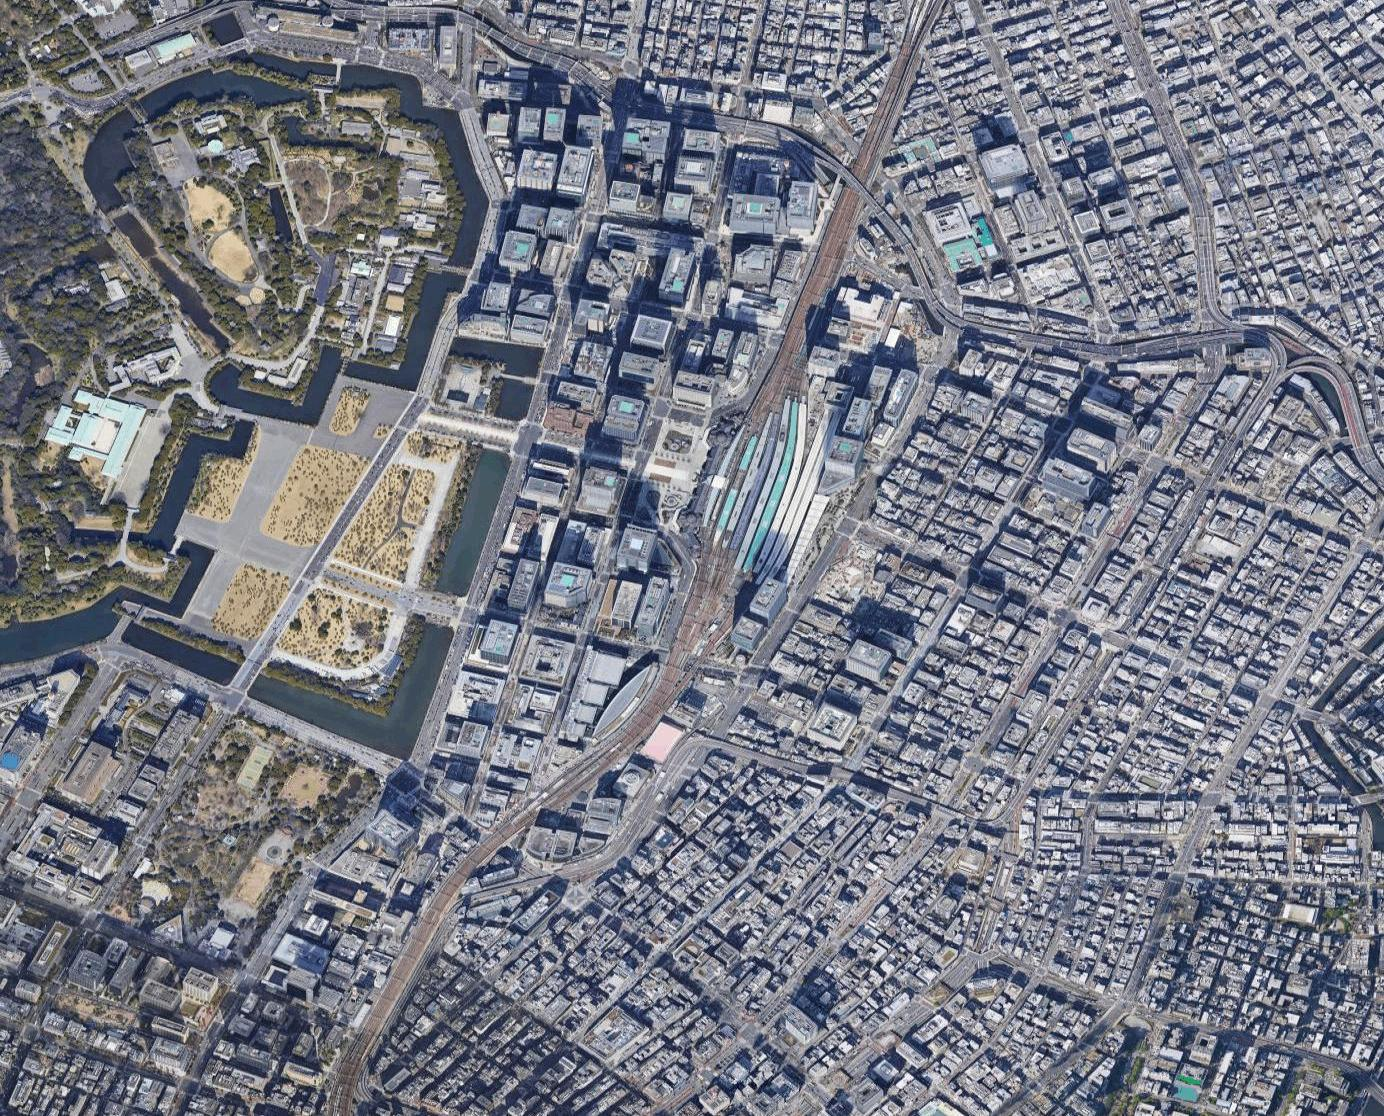bridge: (413, 583, 465, 629), (478, 415, 524, 456), (228, 663, 265, 696), (118, 96, 155, 129), (433, 259, 473, 280), (109, 613, 131, 641)
train_station: (682, 383, 868, 618)
